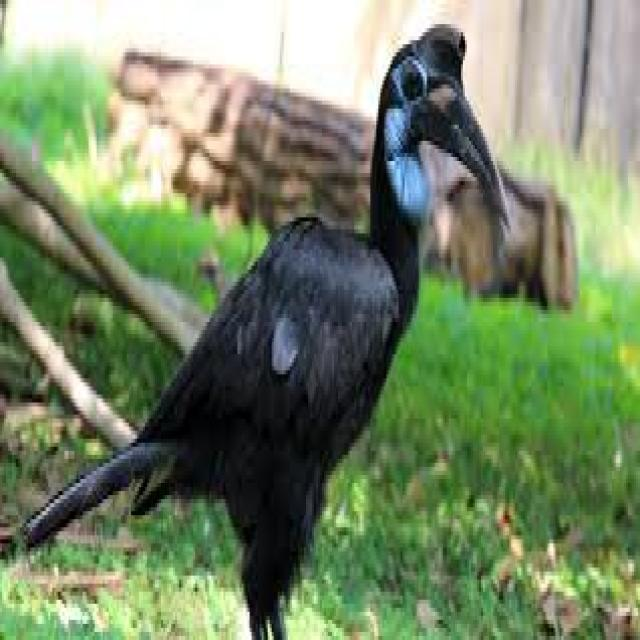Hornbill: (0, 16, 510, 640)
